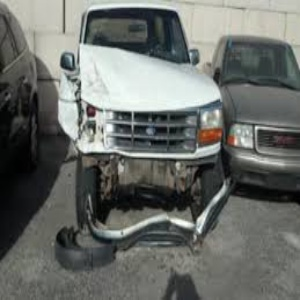bonnet: (78, 40, 205, 106)
bumper: (99, 156, 200, 212)
